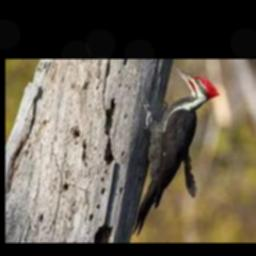Woodpecker: (131, 66, 220, 236)
